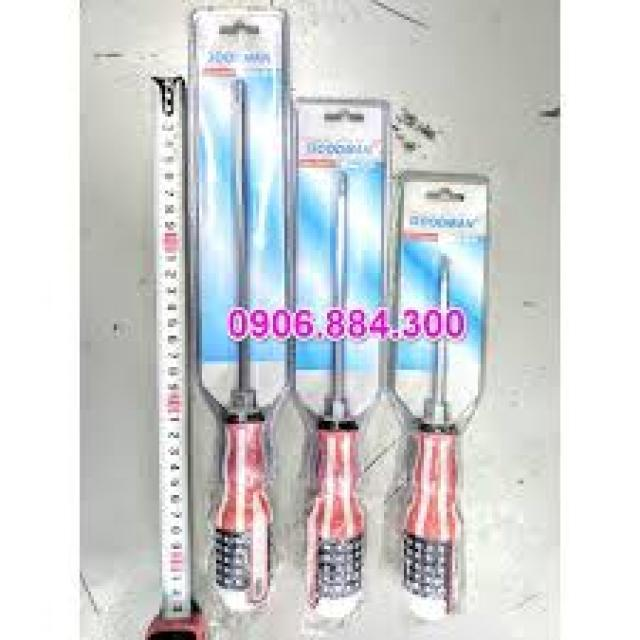screwdriver: (205, 80, 279, 618), (304, 165, 370, 626), (397, 262, 465, 620)
